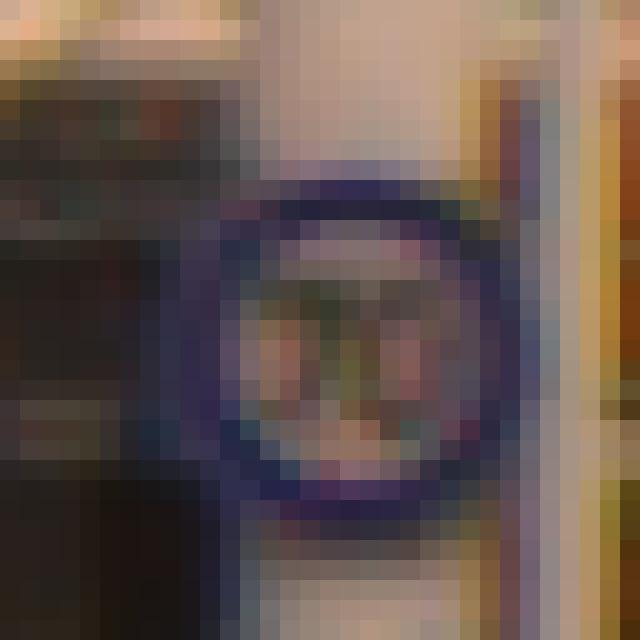SPEED LIMIT 70: (204, 175, 526, 528)
